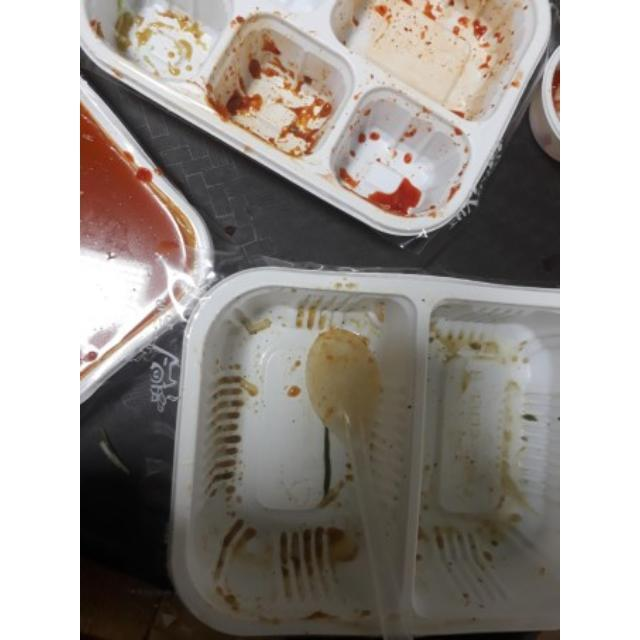Recipiente plastico: (183, 263, 567, 630)
